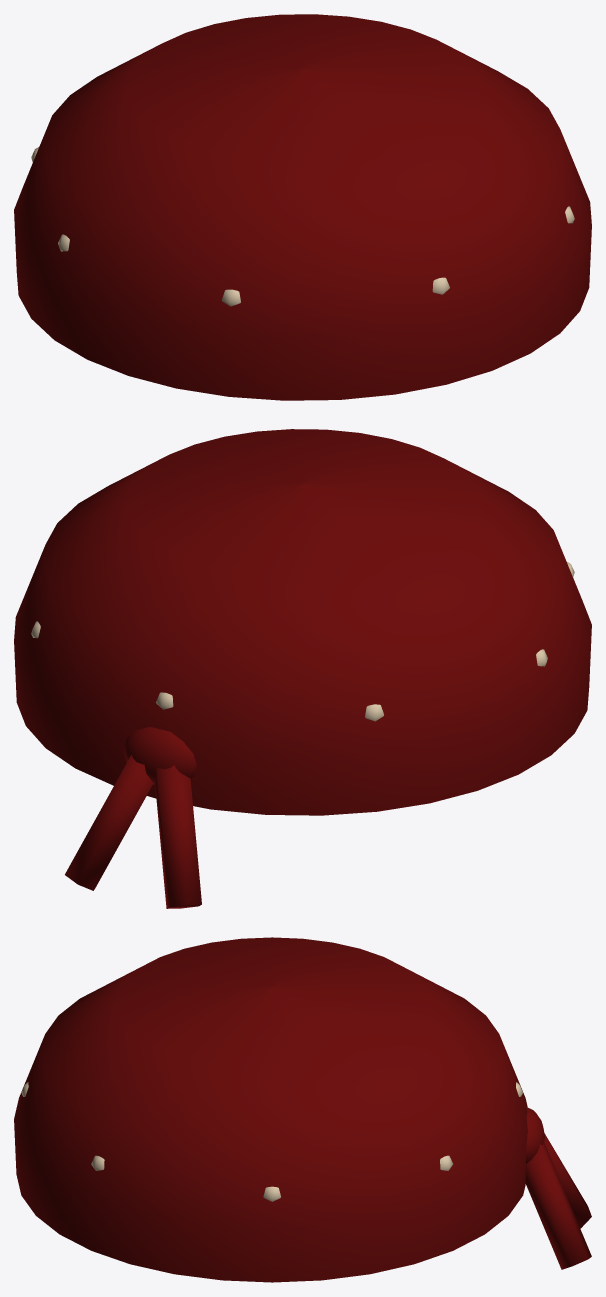
File: bandana.obj
The picture shows the model from 3 angles, top to bottom: view 1: azimuth 30°, elevation 25°; view 2: azimuth 150°, elevation 25°; view 3: azimuth 270°, elevation 25°; orthographic projection. The views are drawn at different scales.
Visible parts, largest first — view 1: bandana; view 2: bandana, bandana_ekor, bandana_ekor.001, bandana_simpul; view 3: bandana, bandana_ekor.001, bandana_ekor, bandana_simpul.
Boxes of the visible parts, box(x1,y1,x2,y2) form: bandana: box(14, 14, 591, 400); bandana: box(14, 429, 591, 815); bandana_ekor: box(155, 765, 201, 908); bandana_ekor.001: box(65, 754, 153, 890); bandana_simpul: box(123, 727, 196, 784); bandana: box(14, 937, 527, 1282); bandana_ekor.001: box(525, 1142, 591, 1269); bandana_ekor: box(544, 1133, 591, 1228); bandana_simpul: box(526, 1107, 544, 1163).
Size of the model in its own units: 2.12 by 1.19 by 2.37.
